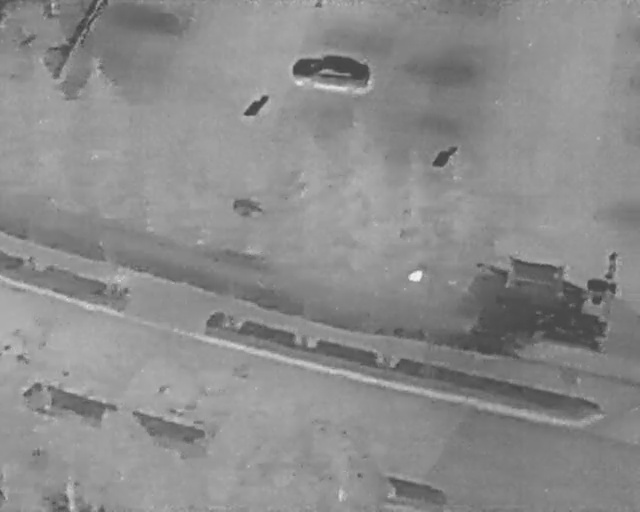Car: (288, 46, 376, 95)
